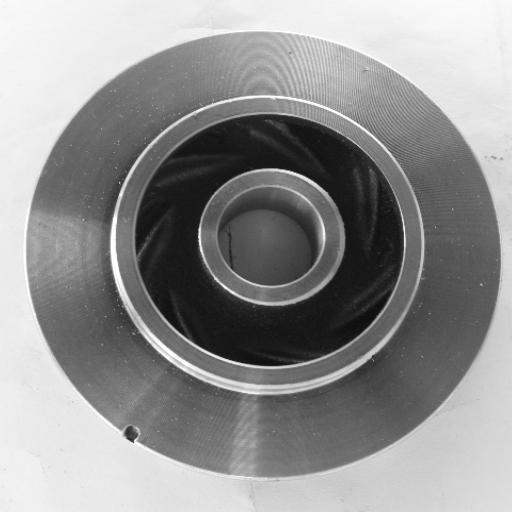pit: (110, 416, 153, 451)
unpolished_casting: (24, 29, 502, 483)
